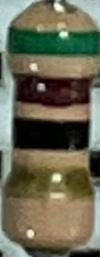Black: (11, 116, 88, 152)
Brown: (14, 71, 93, 105)
Green: (5, 28, 100, 58)
Side-Gold: (4, 164, 95, 199)
